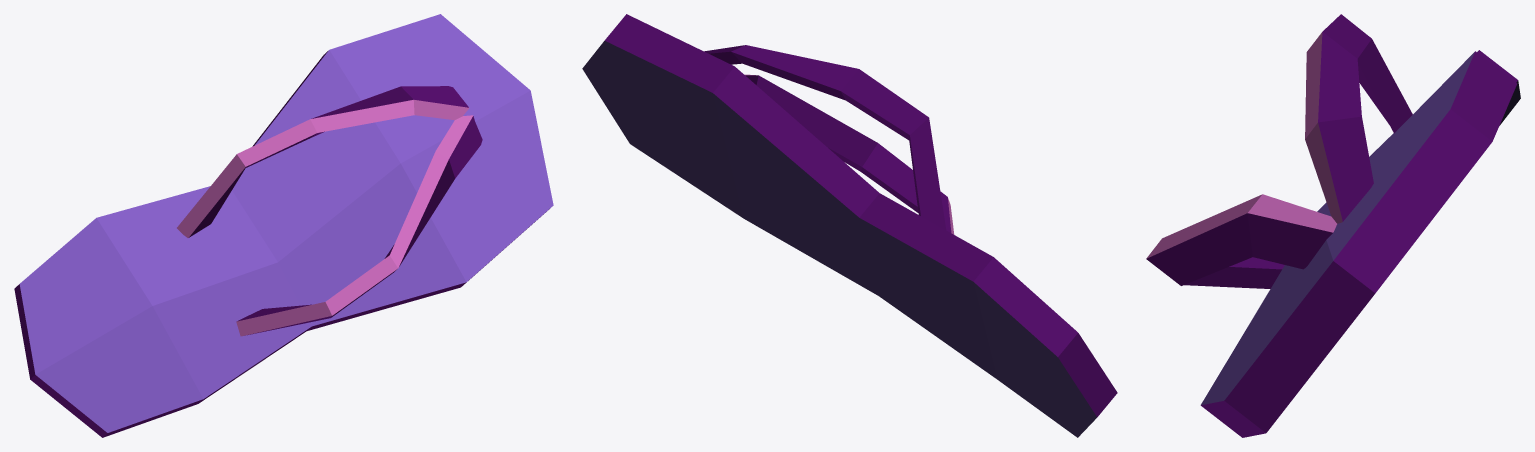
Rendered from slipper.fbx.
3 views of the same model, side by side, from view 1: azimuth 30°, elevation 25°; view 2: azimuth 150°, elevation 25°; view 3: azimuth 270°, elevation 25° (orthographic). The views are drawn at different scales.
Parts seen in each view (by area): view 1: slipper; view 2: slipper; view 3: slipper.
Boxes of the visible parts, x1,y1,x2,y2 form: slipper: [14, 14, 553, 437]; slipper: [582, 14, 1117, 437]; slipper: [1146, 14, 1520, 437].
Bounding box in the file's own units: 389 × 239 × 157.
